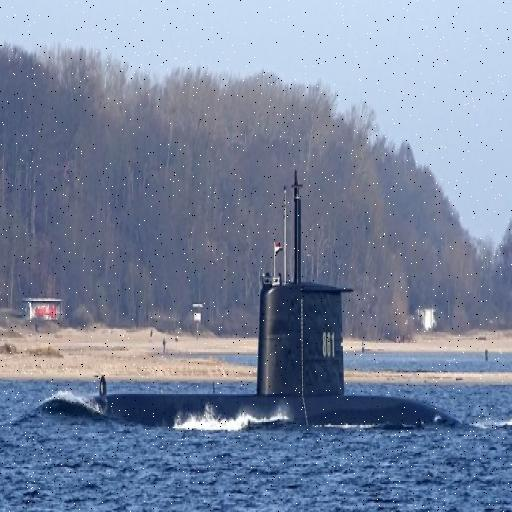submarine: (100, 282, 476, 426)
